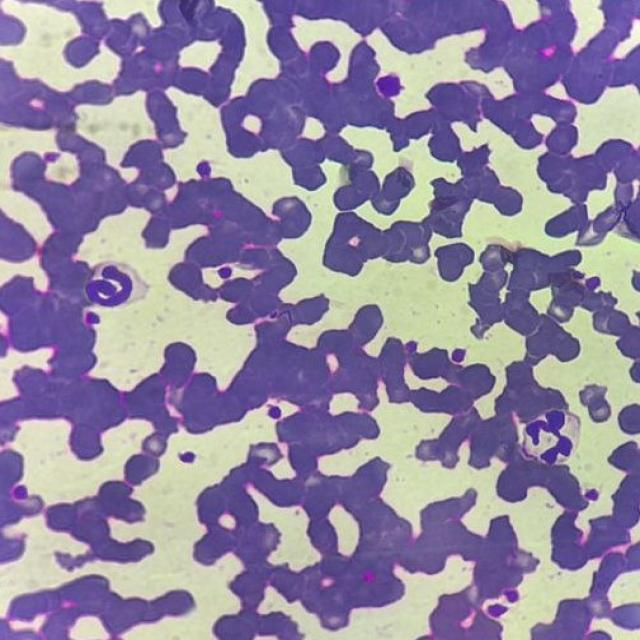Neutrofilo: (80, 261, 147, 313), (522, 410, 583, 465)
